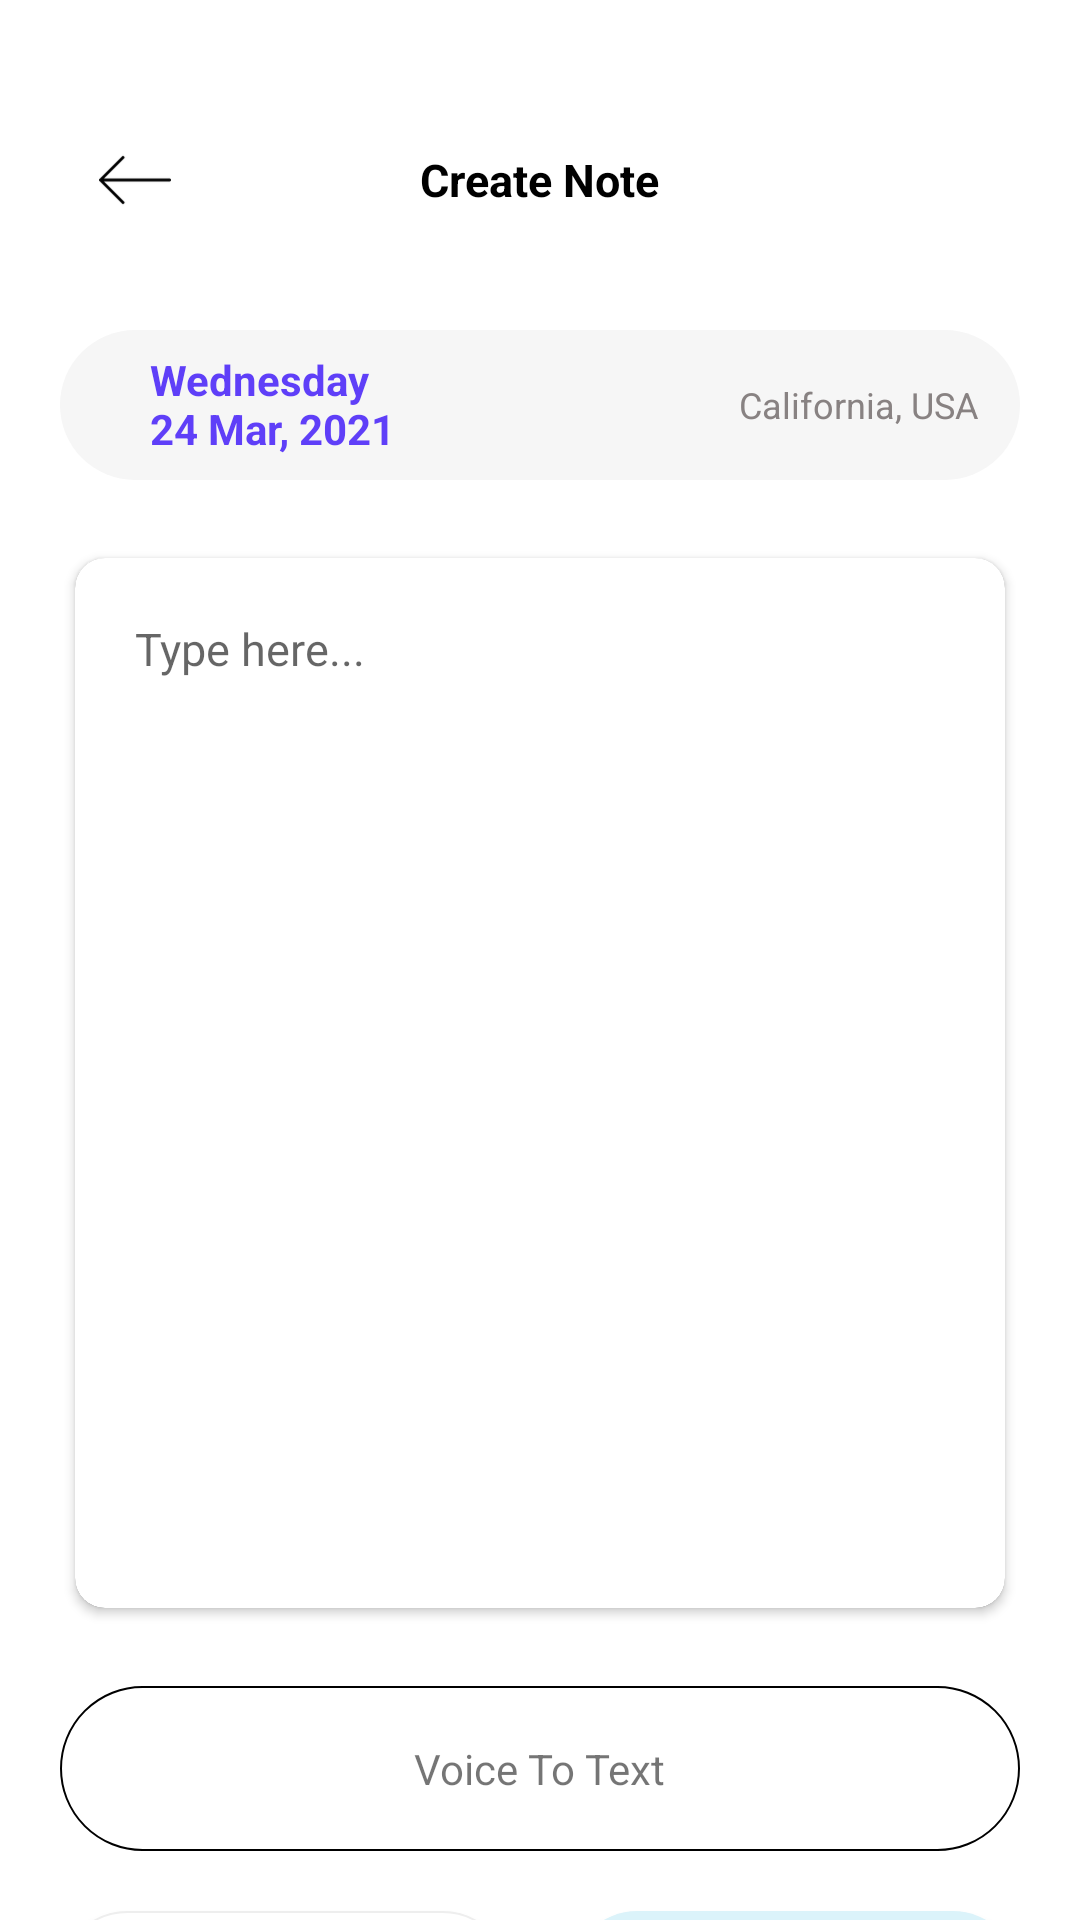

Where to tap for icons on this 1080 × 1920 app screen, as [x,y]:
backarrow: [135,180]
